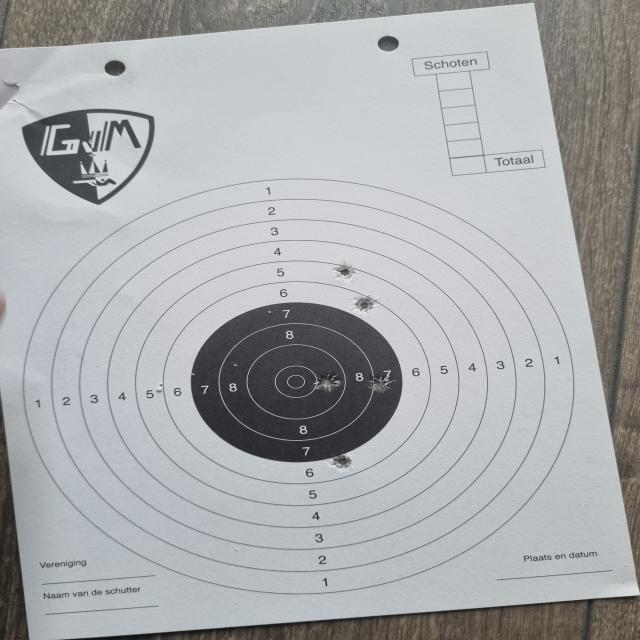10: (311, 374, 344, 392)
6: (332, 264, 356, 279)
7: (350, 294, 380, 313)
8: (325, 454, 353, 470)
9: (367, 372, 397, 392)
Black Contour: (189, 303, 403, 460)
Target: (19, 177, 575, 596)
